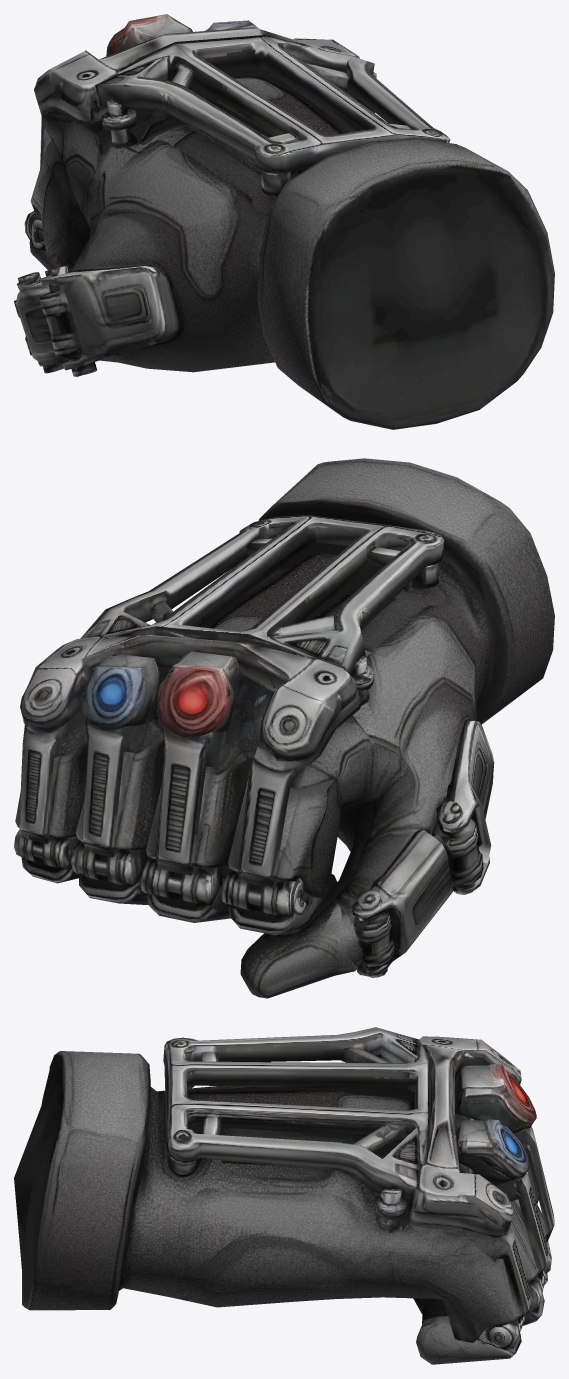
File: rightHandLow.glb
The picture shows the model from 3 angles, top to bottom: view 1: azimuth 30°, elevation 25°; view 2: azimuth 150°, elevation 25°; view 3: azimuth 270°, elevation 25°; orthographic projection. The views are drawn at different scales.
Visible parts, largest first — view 1: right; view 2: right; view 3: right.
Boxes of the visible parts, x1=… form: right: x1=14, y1=14, x2=554, y2=429; right: x1=14, y1=458, x2=554, y2=998; right: x1=14, y1=1027, x2=554, y2=1364.
Bounding box in the file's own units: 0.1115 × 0.0928 × 0.1572.
Materials: 1 (1 with a texture image).
